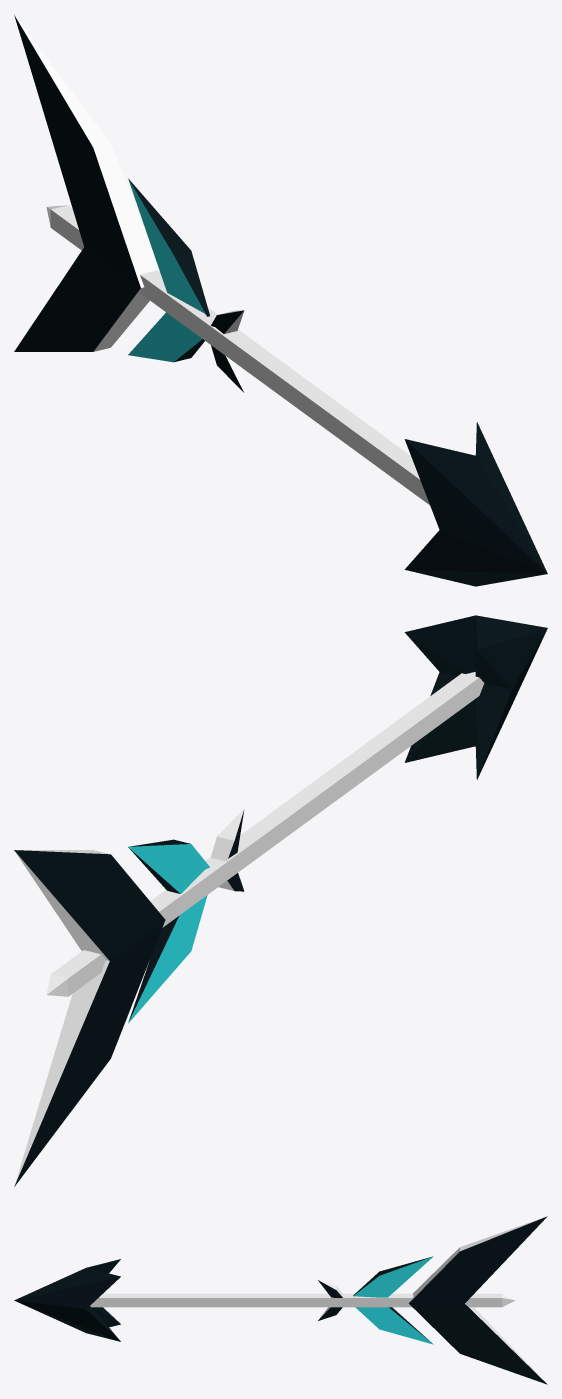
The model's file is flecha.obj.
3 renders of one model, top to bottom at view 1: azimuth 30°, elevation 25°; view 2: azimuth 150°, elevation 25°; view 3: azimuth 270°, elevation 25°, orthographic. The views are drawn at different scales.
Visible parts, largest first — view 1: Cube; view 2: Cube; view 3: Cube.
Boxes of the visible parts, <box> form: Cube: <box>14,15,547,586</box>; Cube: <box>14,615,547,1186</box>; Cube: <box>14,1216,547,1384</box>.
Size of the model in its own units: 0.0477 by 0.2124 by 0.609.
